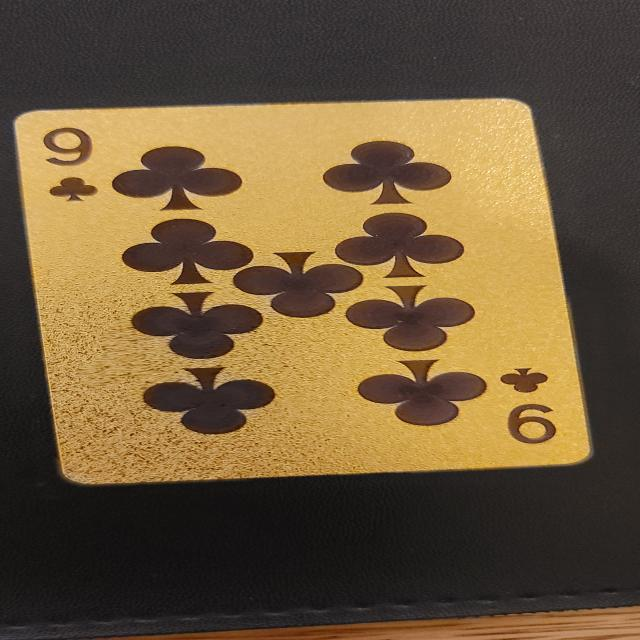9 of clubs: (10, 97, 593, 485)
